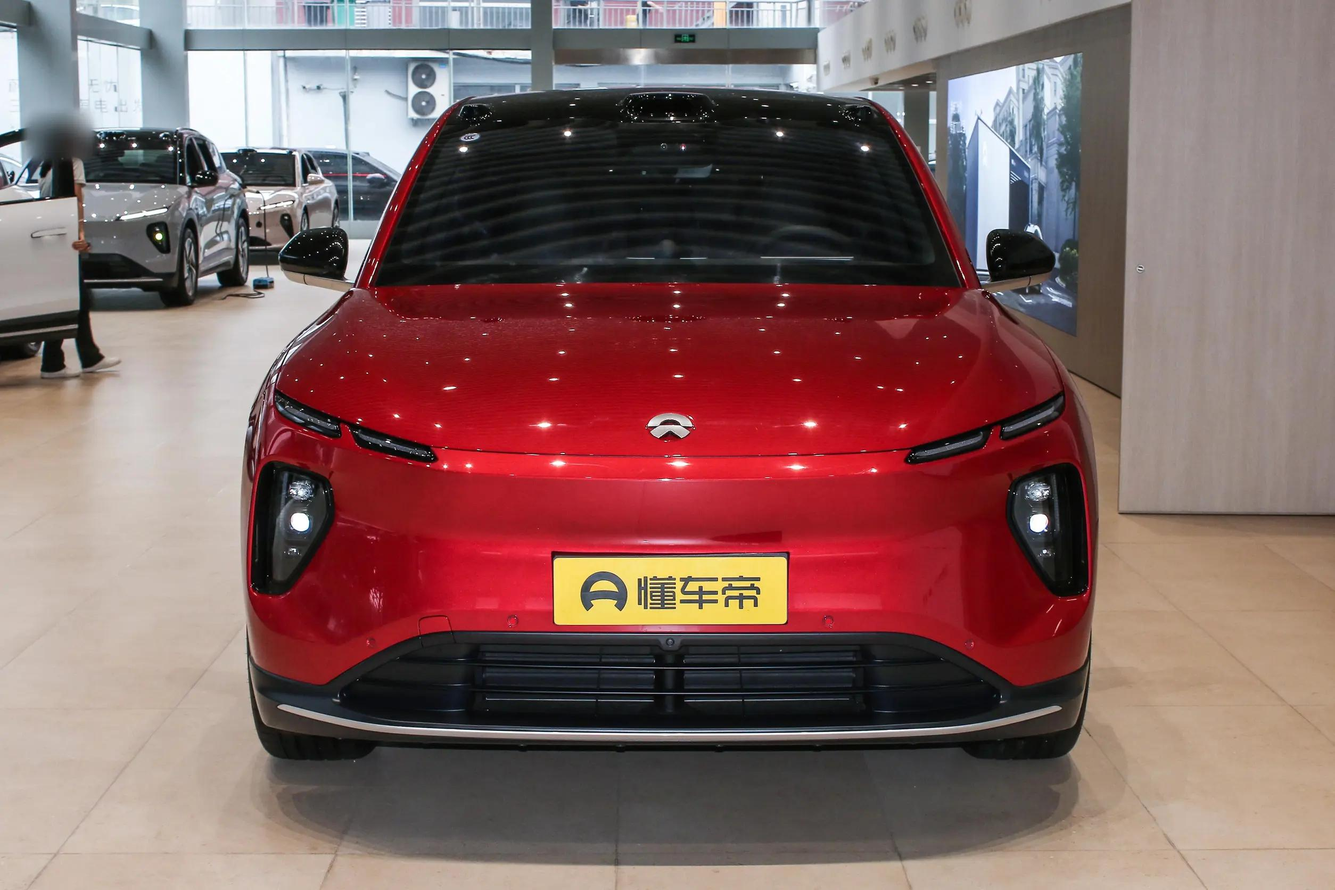NIO: (647, 413, 692, 439)
